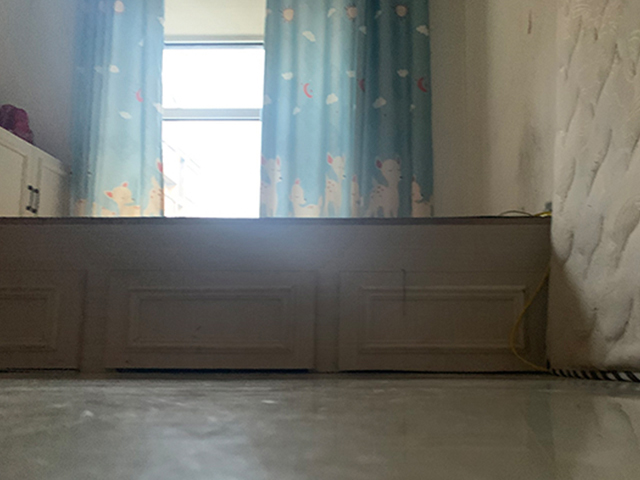bed: (1, 209, 553, 375)
curtain: (262, 3, 430, 217), (68, 1, 166, 216)
